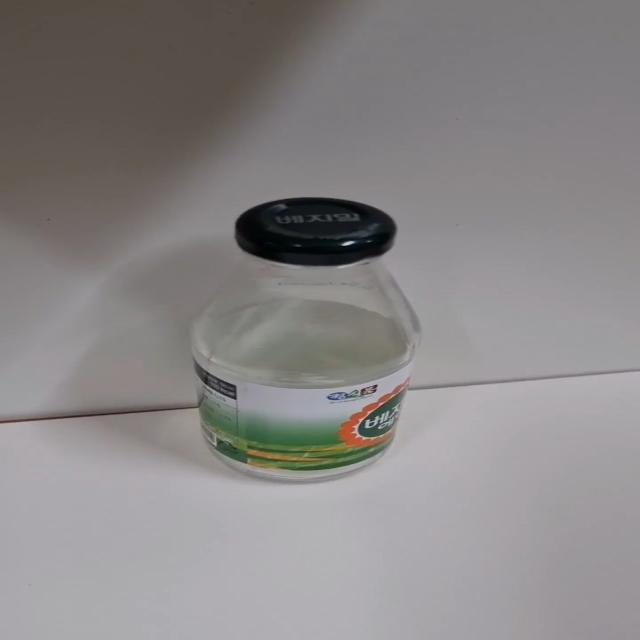Glass: (188, 194, 430, 485)
